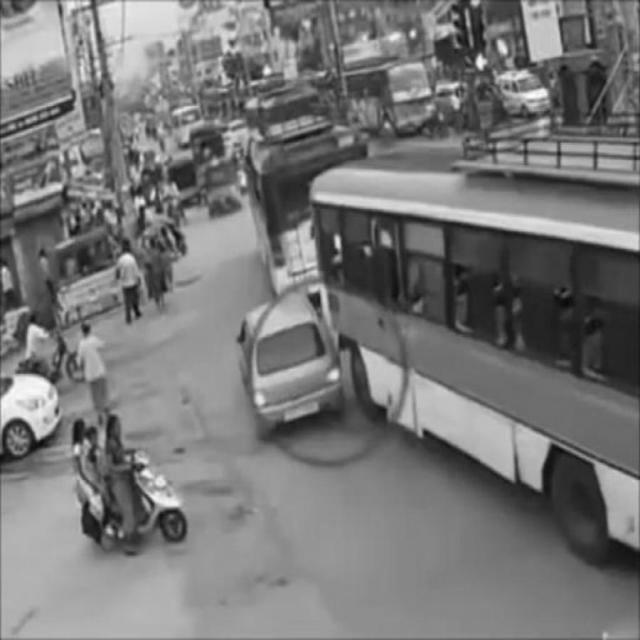accident: (236, 153, 637, 557)
person: (78, 311, 108, 427), (118, 240, 142, 320)
vehicle: (243, 111, 365, 297), (69, 413, 189, 553)
